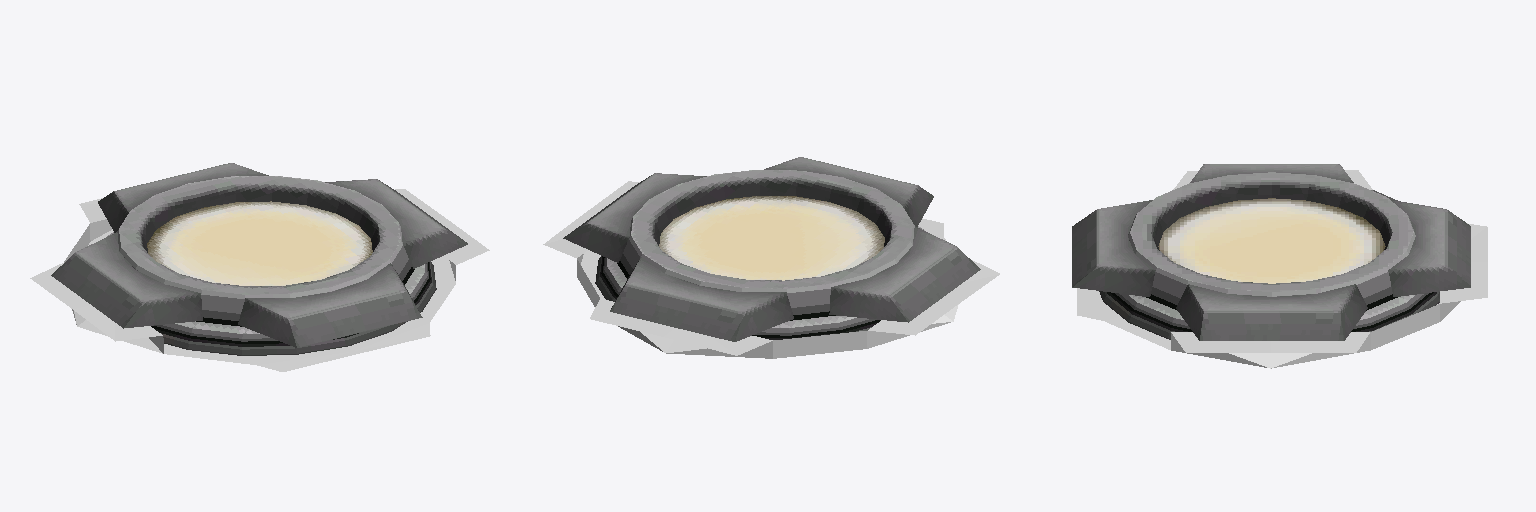
3 views of the same model, side by side, from view 1: azimuth 30°, elevation 25°; view 2: azimuth 150°, elevation 25°; view 3: azimuth 270°, elevation 25° (orthographic).
Visible parts, largest first — view 1: polygon0, polygon1, polygon2; view 2: polygon0, polygon1, polygon2; view 3: polygon0, polygon1, polygon2.
Boxes of the visible parts, x1=… form: polygon0: x1=51, y1=163, x2=467, y2=355; polygon1: x1=147, y1=201, x2=372, y2=285; polygon2: x1=30, y1=189, x2=489, y2=371; polygon0: x1=563, y1=157, x2=980, y2=341; polygon1: x1=659, y1=196, x2=884, y2=280; polygon2: x1=543, y1=181, x2=999, y2=358; polygon0: x1=1072, y1=164, x2=1470, y2=340; polygon1: x1=1158, y1=198, x2=1385, y2=283; polygon2: x1=1077, y1=170, x2=1487, y2=368.
Bounding box in the file's own units: 12.6 × 1.53 × 12.13.
4 materials, 2 textured.